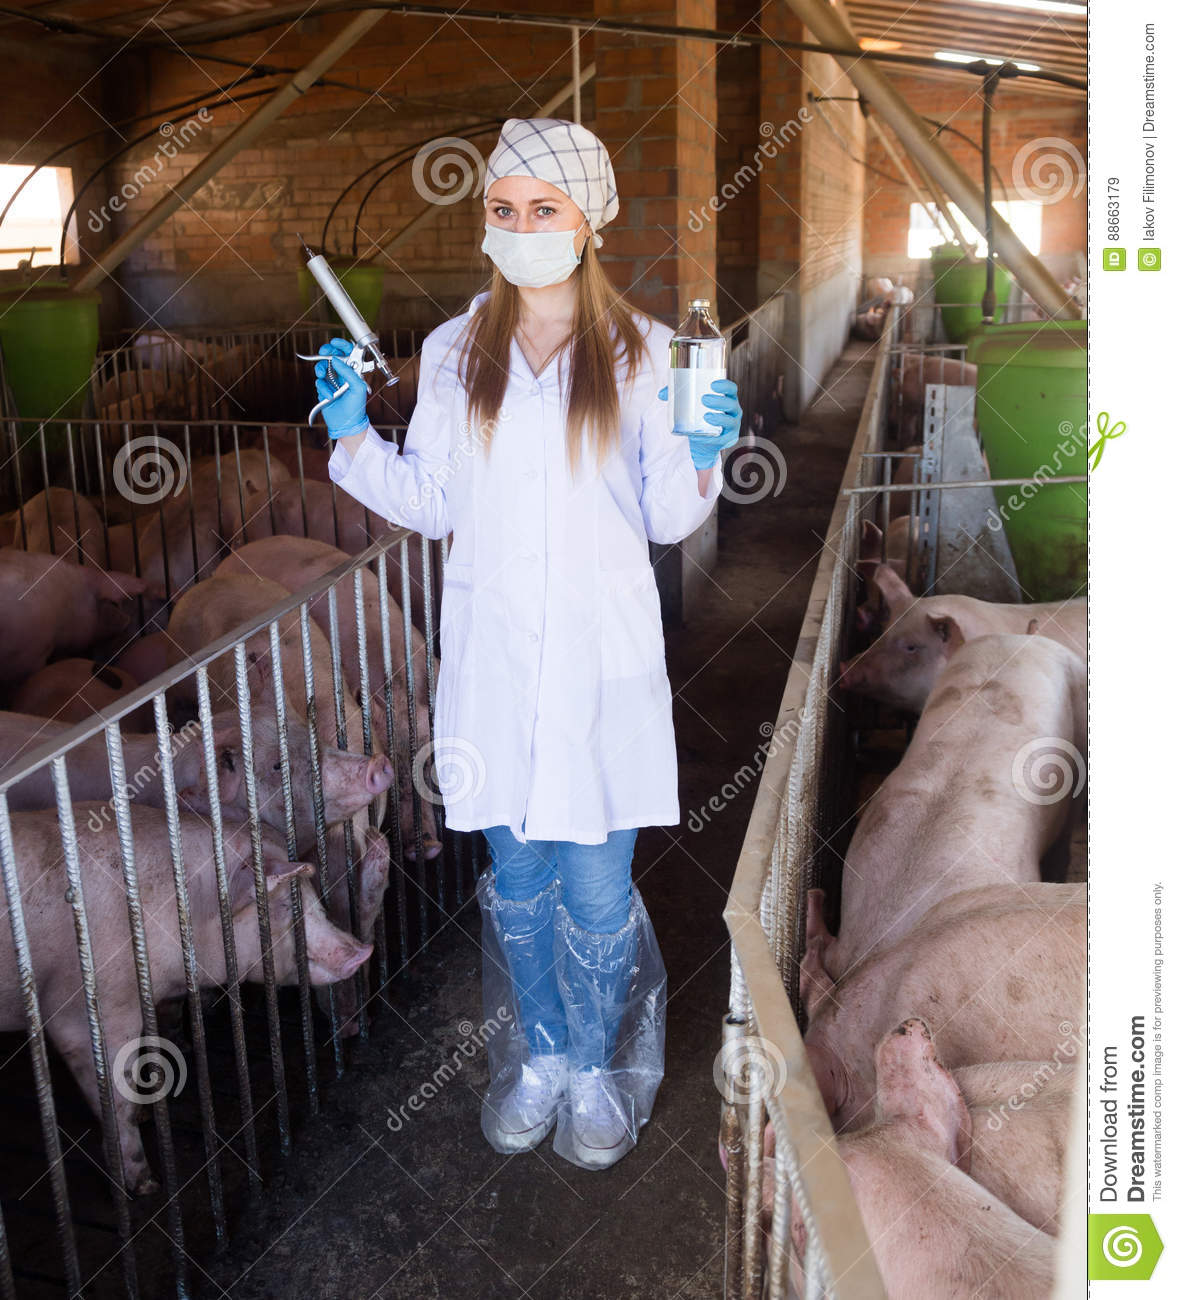mask: (484, 226, 581, 294)
